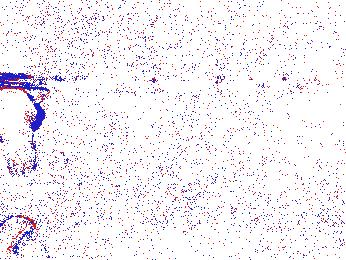flame jellyfish: (1, 85, 45, 178), (181, 191, 237, 246), (1, 214, 50, 260)
